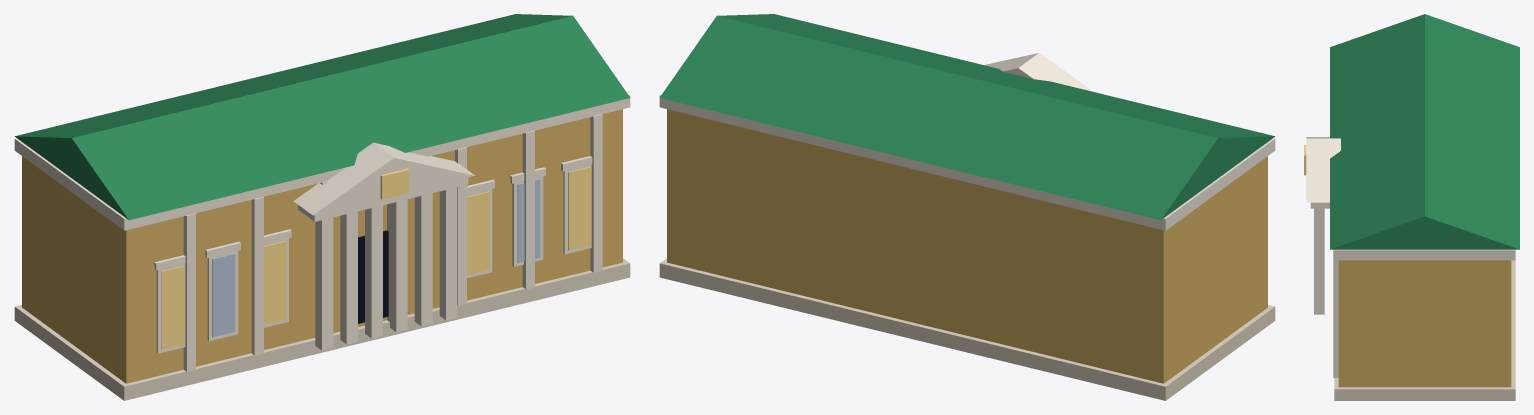
The model's file is bld_manege.glb.
The picture shows the model from 3 angles, left to right: view 1: azimuth 30°, elevation 25°; view 2: azimuth 150°, elevation 25°; view 3: azimuth 270°, elevation 25°; orthographic projection. The views are drawn at different scales.
Parts seen in each view (by area): view 1: bld_manege; view 2: bld_manege; view 3: bld_manege.
Boxes of the visible parts, x1,y1,x2,y2 form: bld_manege: [14, 14, 630, 400]; bld_manege: [659, 14, 1275, 400]; bld_manege: [1304, 14, 1519, 400].
Size of the model in its own units: 22.4 by 9.4 by 10.
Materials: 1 (1 with a texture image).
